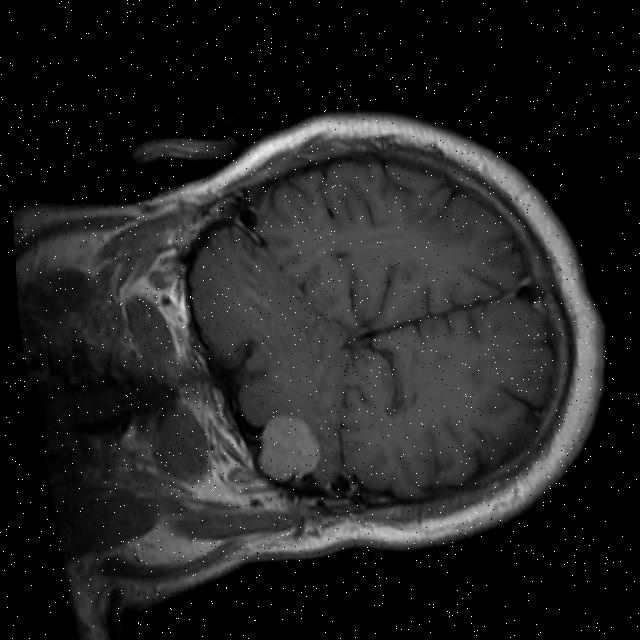Meningioma: (247, 408, 326, 490)
